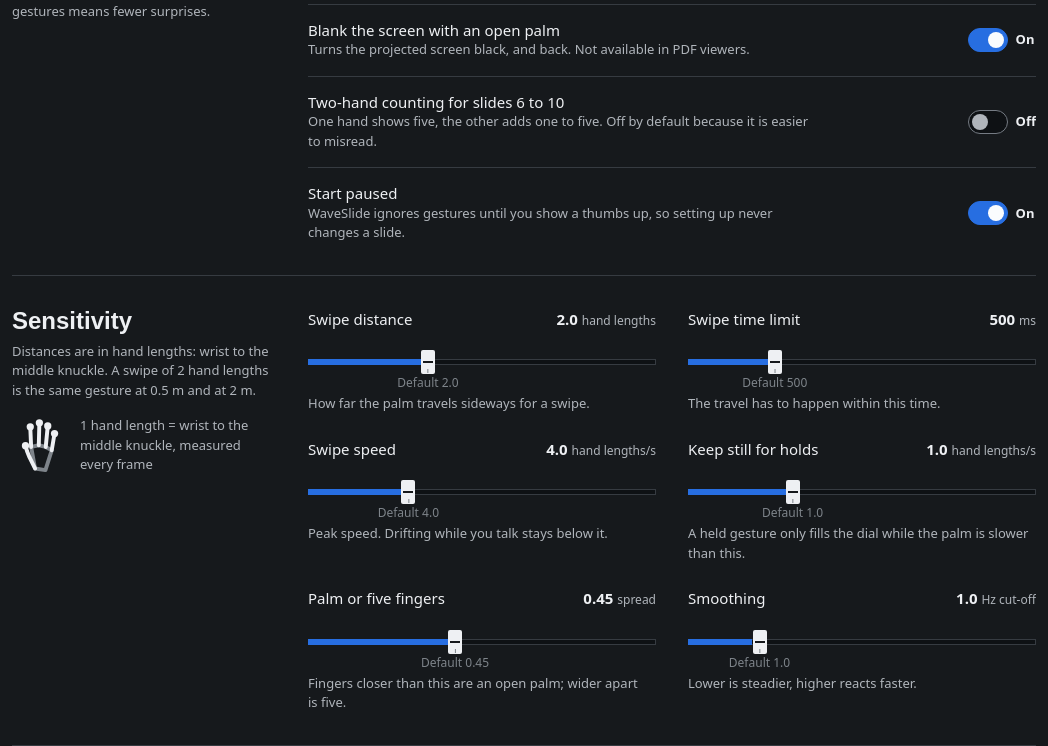
Test: SettingsForm › keeps what was typed when the engine refuses, and says why
(page scrolled)
Press ArrowRight in the slider named "Swipe distance" below "Swipe distance", box x1=416 y1=350 x2=440 y2=374
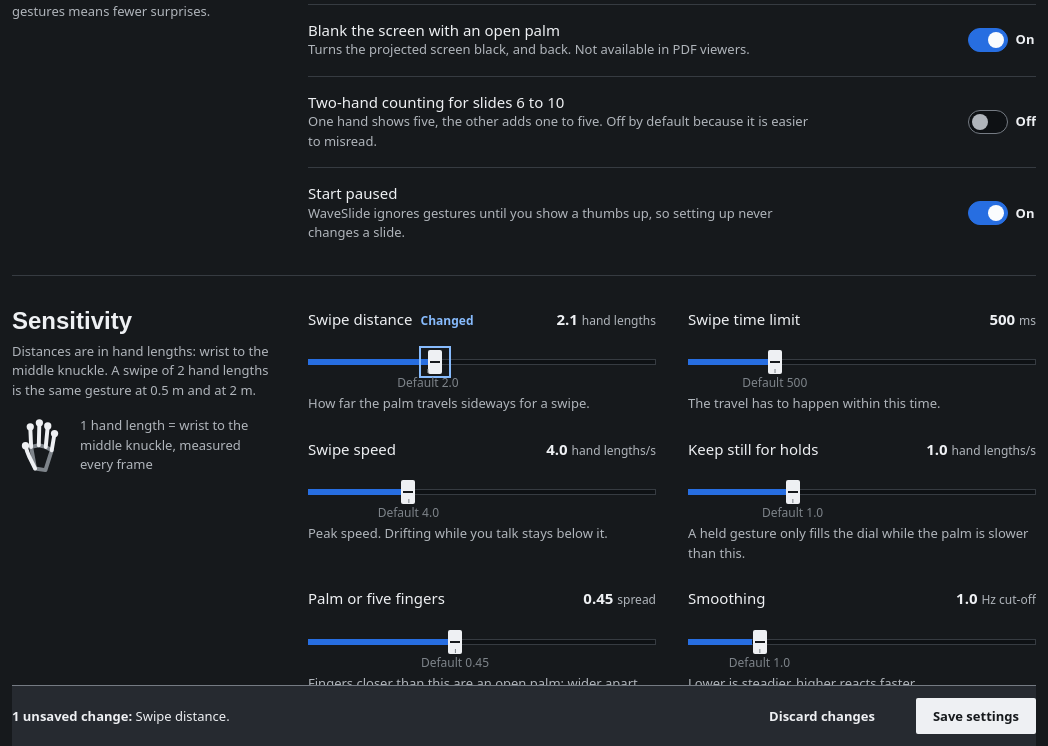
Click the button "Save settings" at (976, 716), box x1=916 y1=698 x2=1036 y2=734
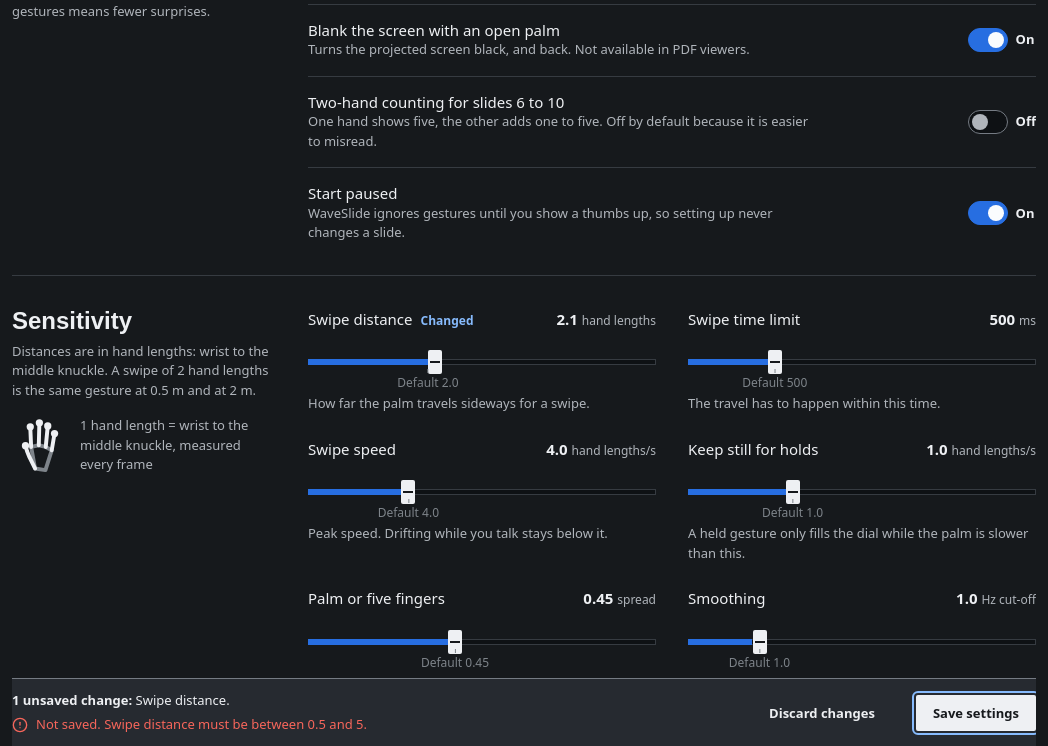
Now the button "Save settings" is enabled, box x1=916 y1=694 x2=1036 y2=730
Now the text "Not saved. Swipe distance must be between 0.5 and 5." is shown, box x1=12 y1=714 x2=367 y2=734
